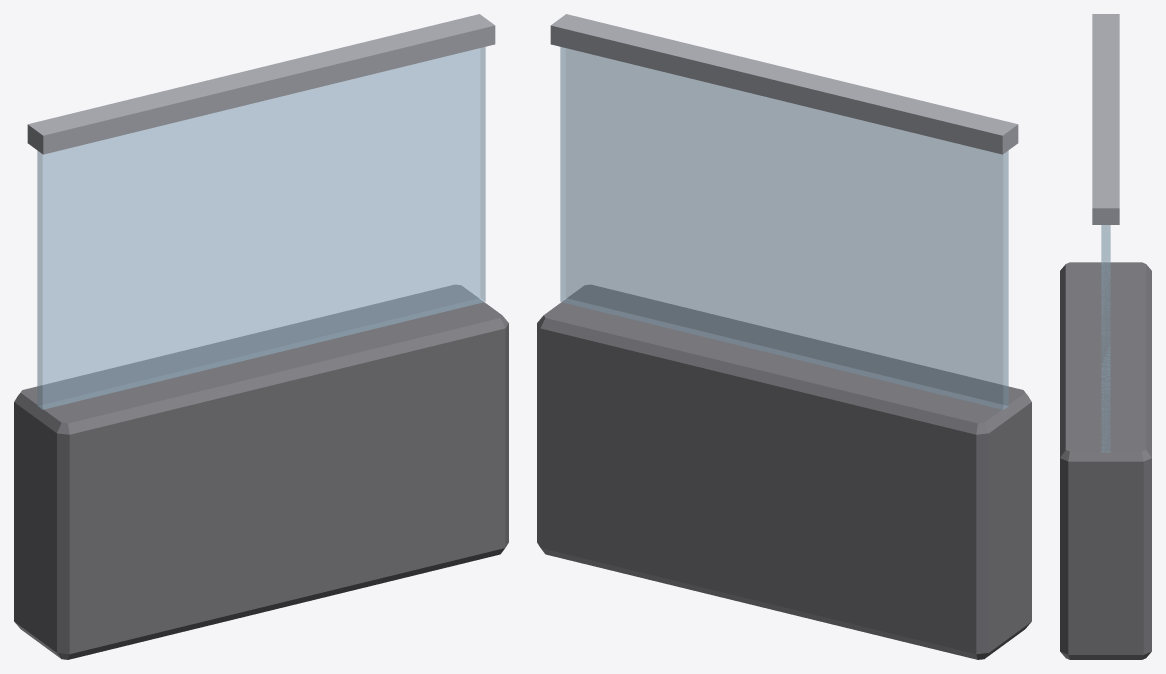
Rendered from rooftop_railing.obj.
3 renders of one model, left to right at view 1: azimuth 30°, elevation 25°; view 2: azimuth 150°, elevation 25°; view 3: azimuth 270°, elevation 25°, orthographic. The views are drawn at different scales.
Visible parts, largest first — view 1: rooftop_railing; view 2: rooftop_railing; view 3: rooftop_railing.
Boxes of the visible parts, <box> form: rooftop_railing: <box>14,14,508,659</box>; rooftop_railing: <box>537,14,1031,659</box>; rooftop_railing: <box>1060,14,1151,659</box>.
Size of the model in its own units: 1 by 1.09 by 0.2.
